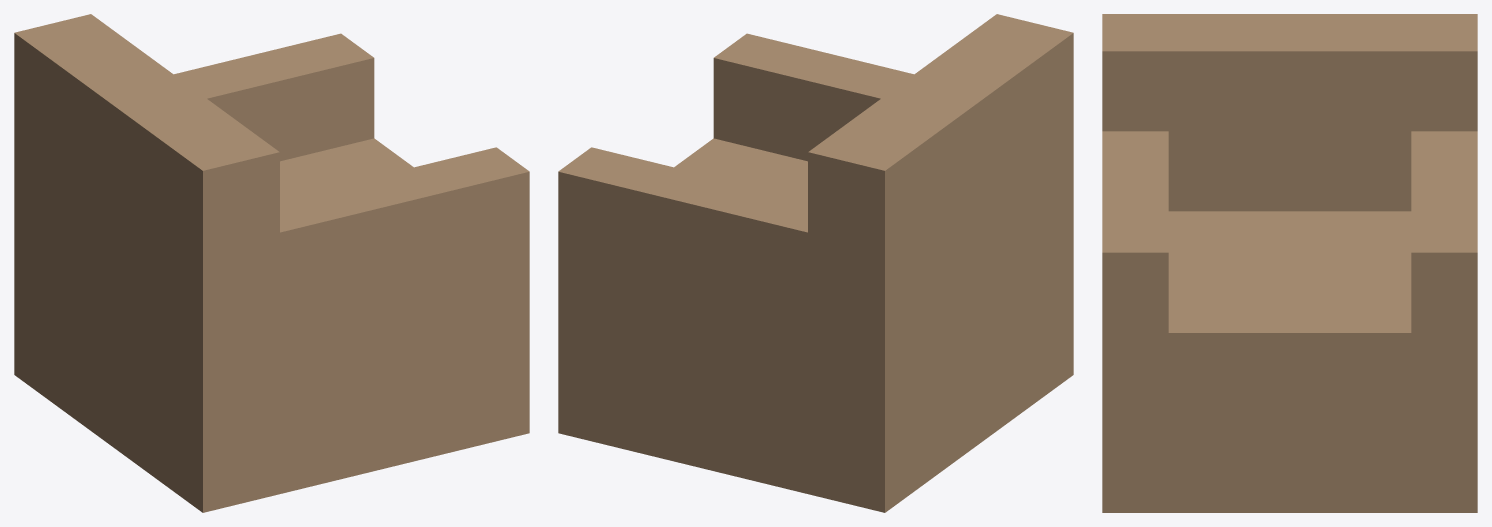
The model's file is armchair-850.glb.
The picture shows the model from 3 angles, left to right: view 1: azimuth 30°, elevation 25°; view 2: azimuth 150°, elevation 25°; view 3: azimuth 270°, elevation 25°; orthographic projection.
Parts seen in each view (by area): view 1: armchair-850; view 2: armchair-850; view 3: armchair-850.
Part boxes in pixels (left/top/right/bottom): armchair-850: left=14, top=14, right=529, bottom=512; armchair-850: left=558, top=14, right=1073, bottom=512; armchair-850: left=1102, top=14, right=1477, bottom=512.
Bounding box in the file's own units: 0.85 × 0.85 × 0.85.
